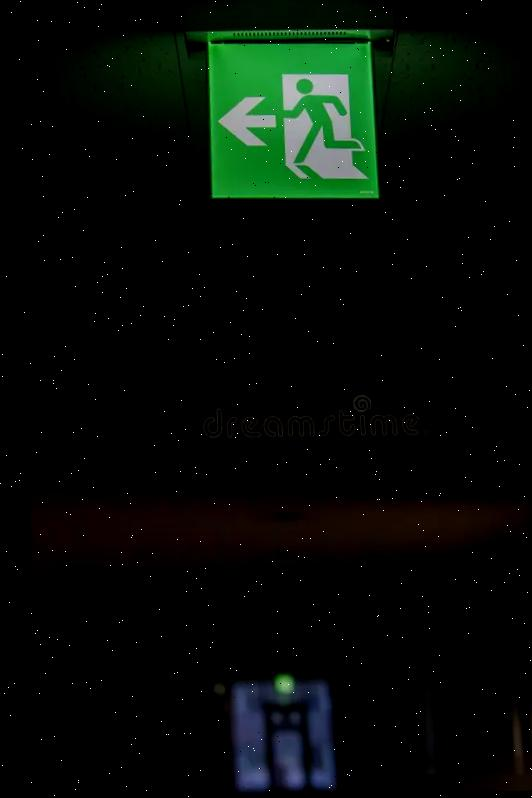emergency_exit: (206, 33, 381, 201)
